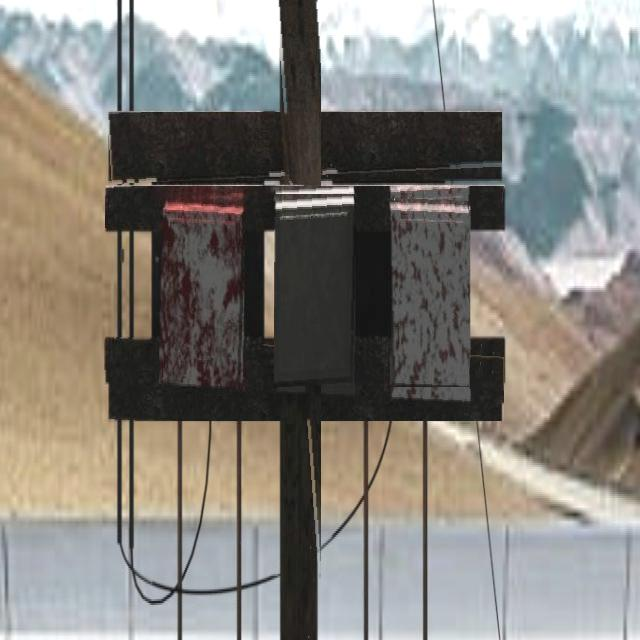crossarm: (104, 338, 504, 421), (109, 112, 502, 184), (105, 186, 504, 228)
pole: (279, 0, 321, 640)
transformer: (159, 192, 246, 390), (274, 194, 356, 387), (389, 199, 469, 387)
